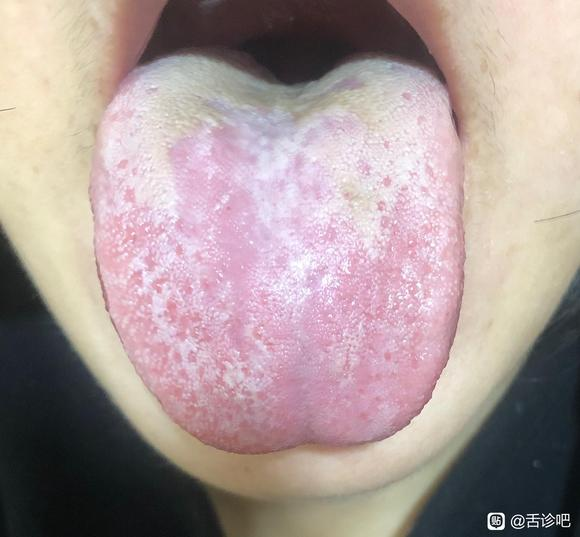huangtaishe: (88, 45, 463, 454)
shenquao: (198, 47, 382, 95)
